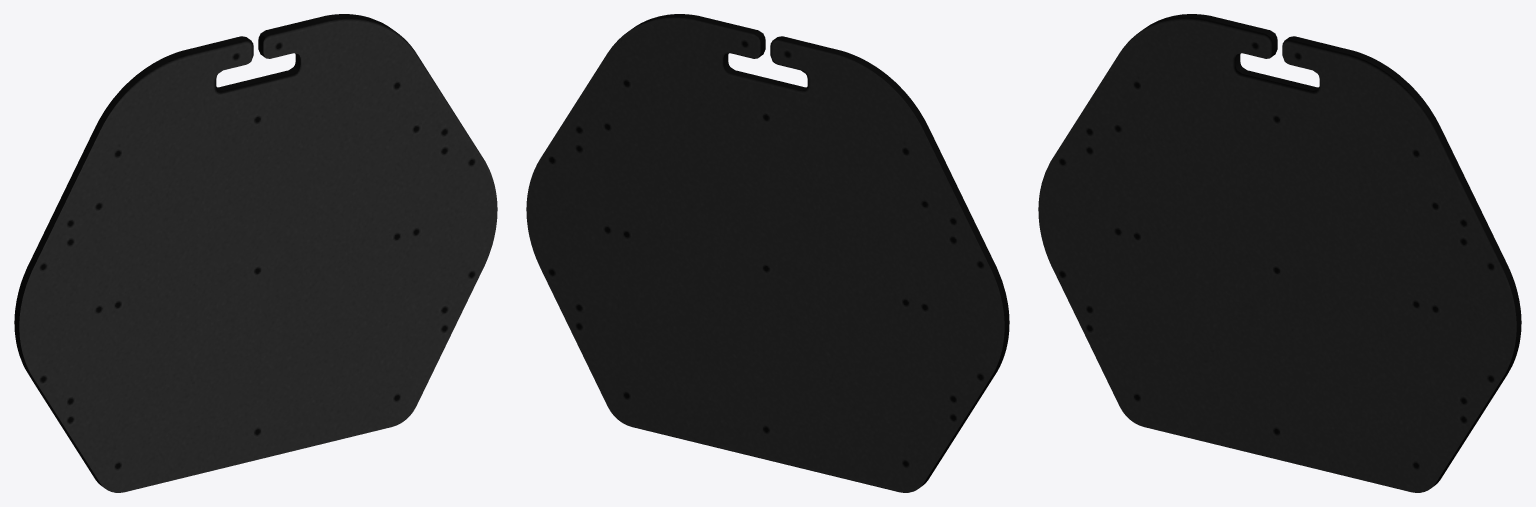
Rendered from plate_middle.dae.
The picture shows the model from 3 angles, left to right: view 1: azimuth 30°, elevation 25°; view 2: azimuth 150°, elevation 25°; view 3: azimuth 330°, elevation 25°; orthographic projection.
Visible parts, largest first — view 1: _f_stack; view 2: _f_stack; view 3: _f_stack.
Boxes of the visible parts, x1,y1,x2,y2 form: _f_stack: [14, 14, 497, 492]; _f_stack: [526, 14, 1009, 492]; _f_stack: [1038, 14, 1521, 492].
Bounding box in the file's own units: 340 × 6 × 287.
Materials: 1 (1 with a texture image).
